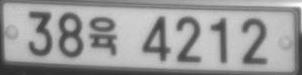1: (210, 17, 233, 63)
2: (241, 17, 268, 64), (176, 15, 201, 62)
3: (29, 10, 52, 56)
4: (142, 15, 171, 61)
8: (58, 12, 83, 58)
육: (89, 16, 117, 54)
